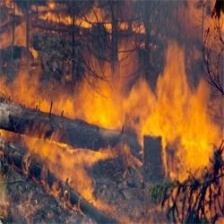fire: (59, 77, 219, 192)
